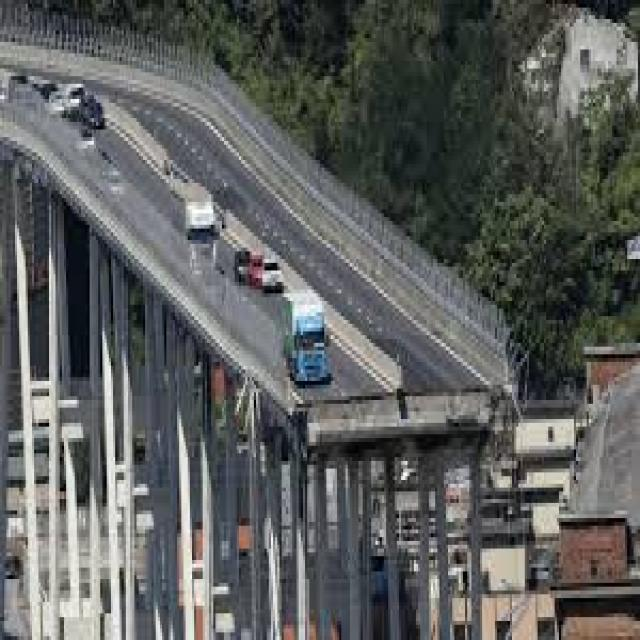bridge collapse: (198, 175, 640, 636)
